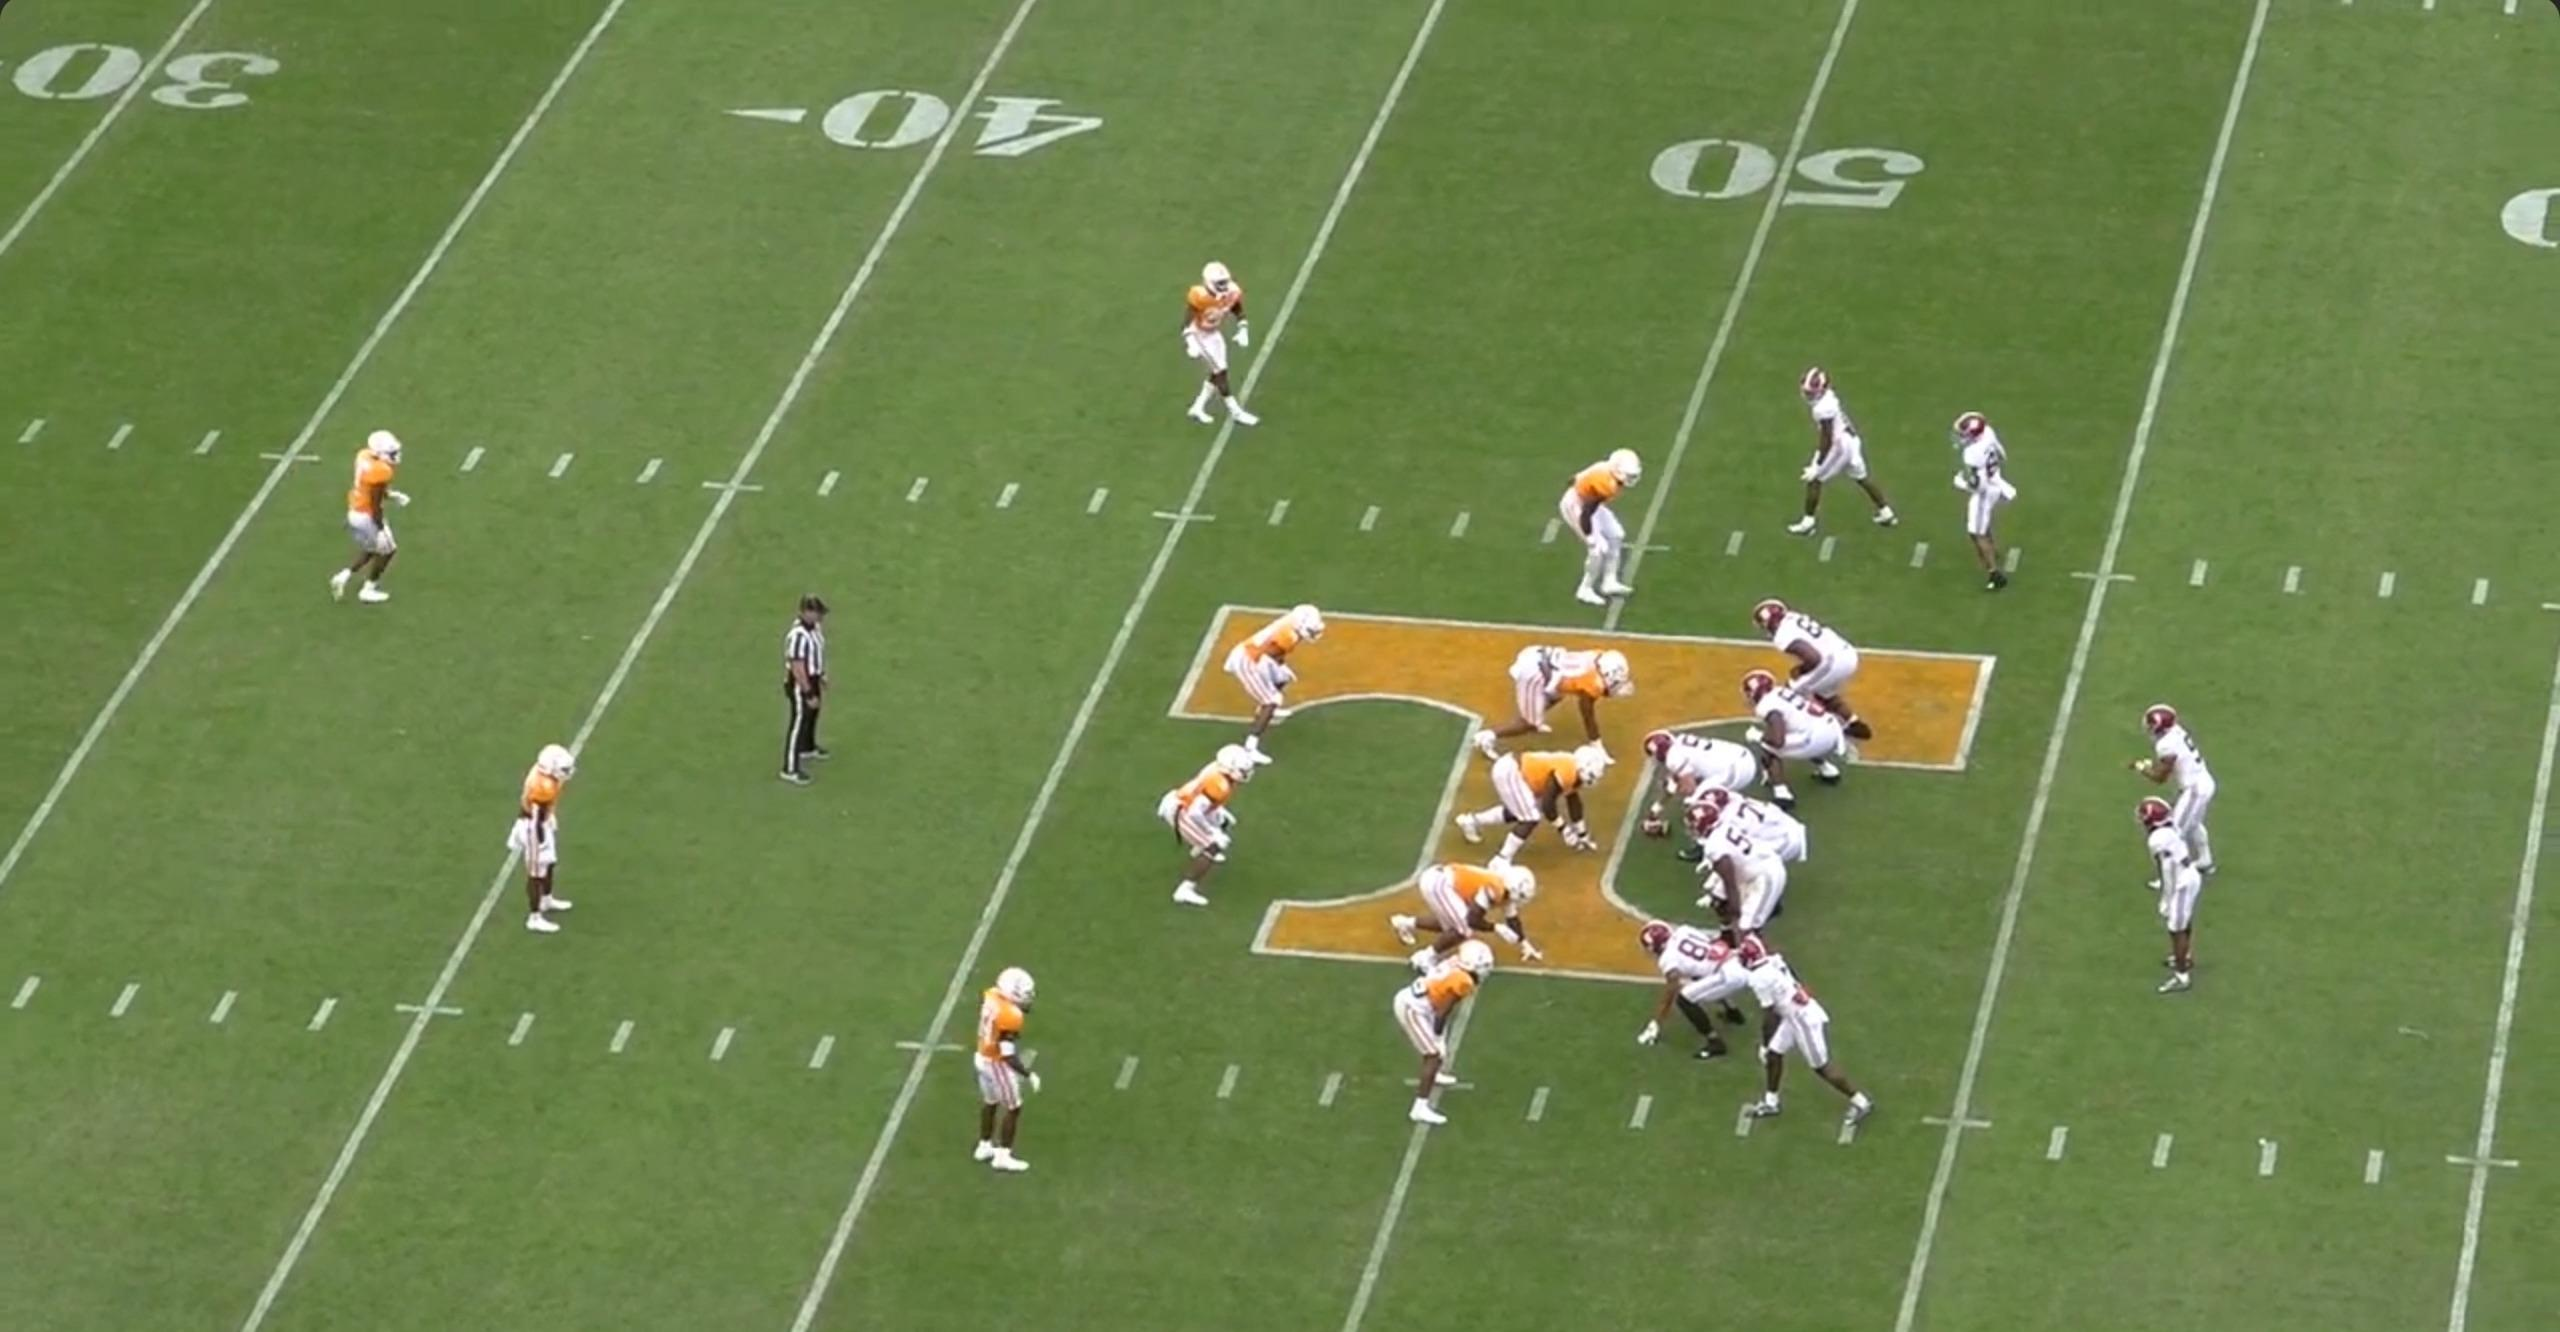defense: (1400, 934, 1509, 1129), (1454, 745, 1620, 861), (1461, 643, 1627, 760), (953, 968, 1041, 1185), (1160, 740, 1263, 917), (1556, 445, 1659, 616), (320, 425, 411, 618), (1219, 596, 1321, 767), (1393, 858, 1553, 965), (499, 738, 579, 946), (1178, 261, 1266, 440)
oline: (1744, 599, 1869, 753), (1680, 814, 1795, 960), (1734, 675, 1846, 814), (1634, 728, 1764, 841), (1683, 782, 1805, 863)
qb: (2118, 701, 2211, 890)
ref: (759, 589, 833, 794)
skill: (1722, 927, 1874, 1136), (1776, 361, 1903, 542), (1629, 921, 1766, 1066), (2120, 801, 2204, 1007), (1942, 406, 2022, 597)
